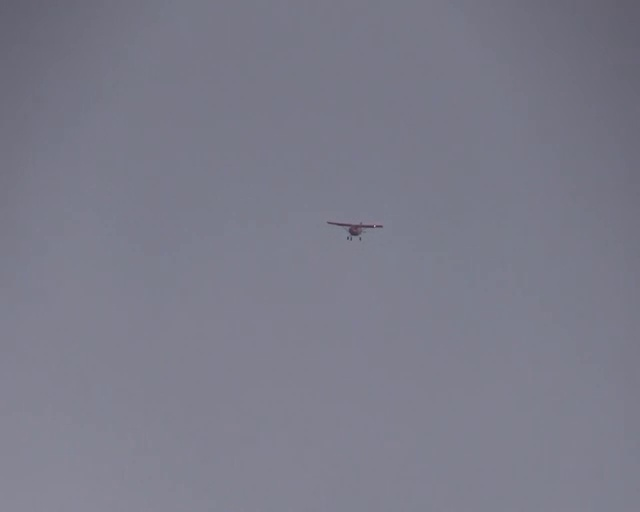AIRPLANE: (326, 220, 383, 240)
